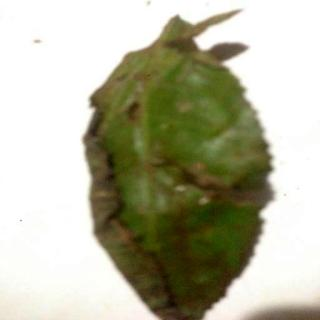Red Leaf Spot: (83, 14, 273, 320)
